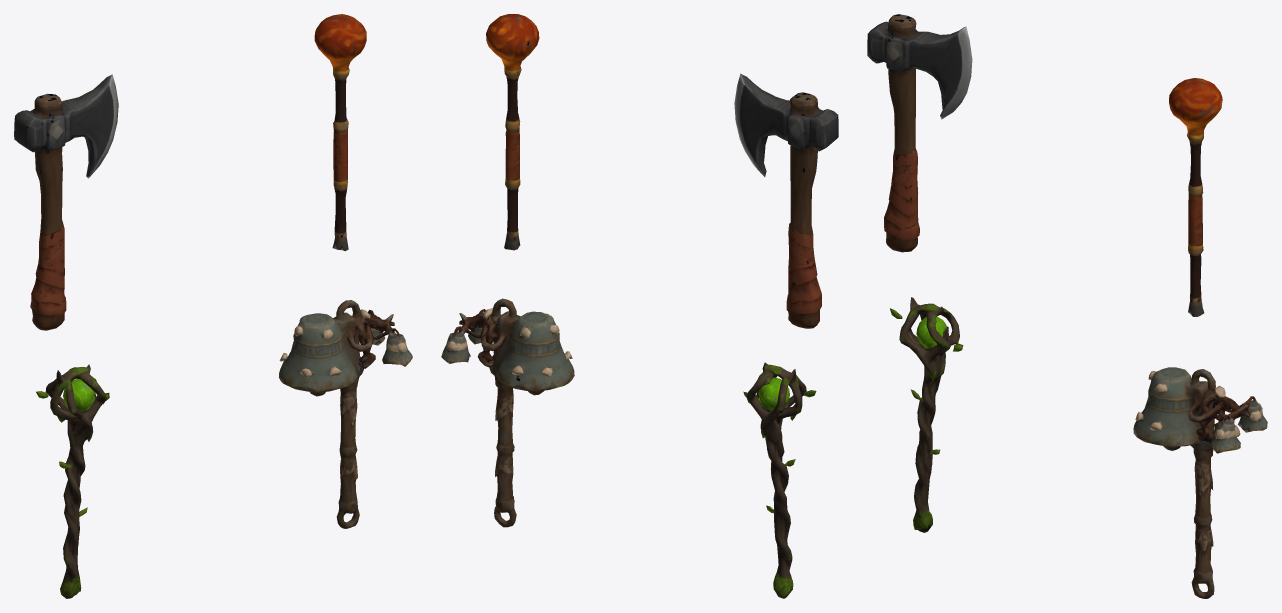
The picture shows the model from 3 angles, left to right: view 1: azimuth 30°, elevation 25°; view 2: azimuth 150°, elevation 25°; view 3: azimuth 330°, elevation 25°; orthographic projection.
Visible parts, largest first — view 1: world; view 2: world; view 3: world.
Boxes of the visible parts, x1=… form: world: x1=14, y1=14, x2=412, y2=598; world: x1=441, y1=14, x2=838, y2=598; world: x1=867, y1=14, x2=1267, y2=598.
Size of the model in its own units: 0.7644 by 0.9977 by 0.1504.
Materials: 1 (1 with a texture image).
